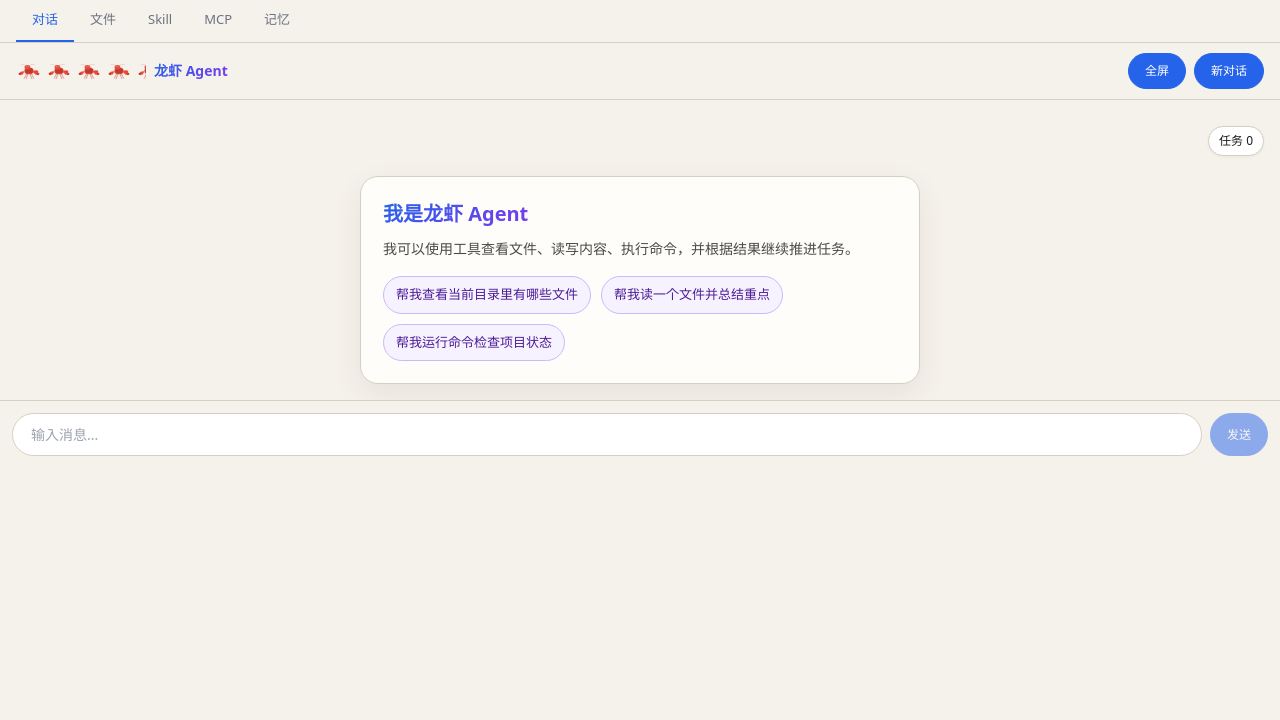
Test: TabsWorkspace Skill tab › renders memory panel when clicking 记忆 tab
This screenshot has width=1280, height=720.
Click the button "记忆" at (277, 21), box [248,0,306,42]
(page scrolled)
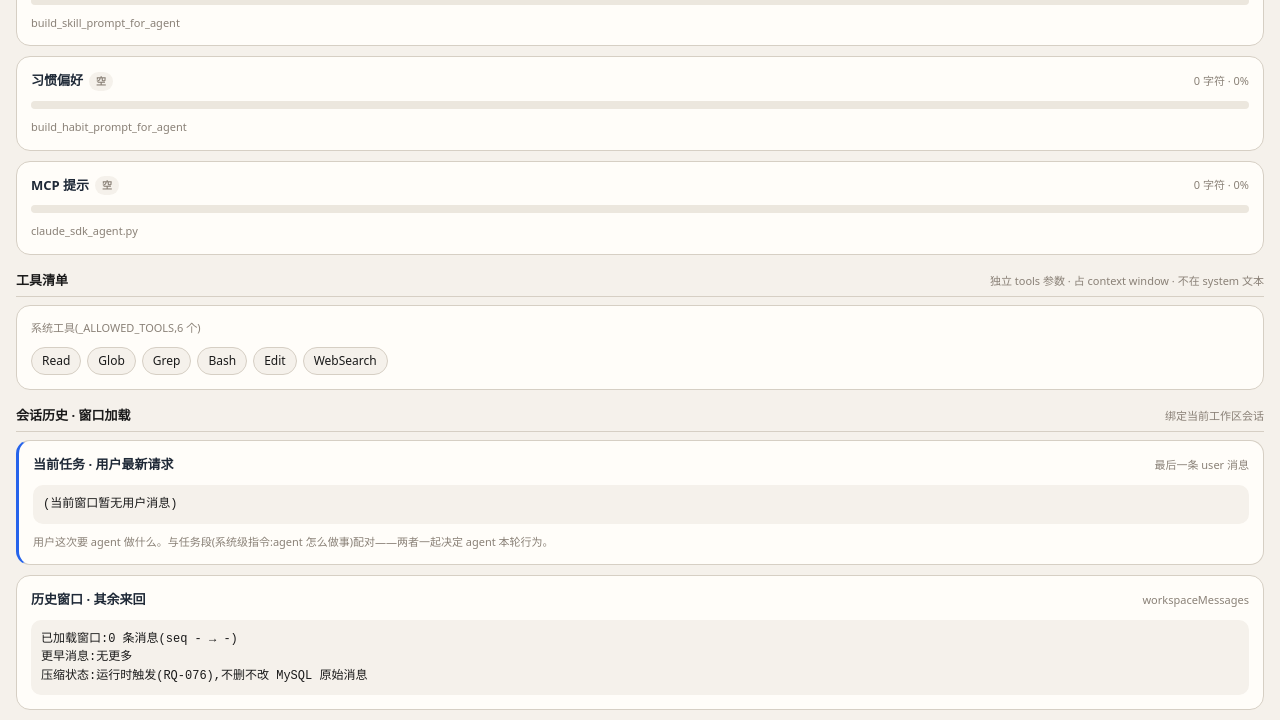
Expected: the text "Read" is shown, [31,347,81,375]
